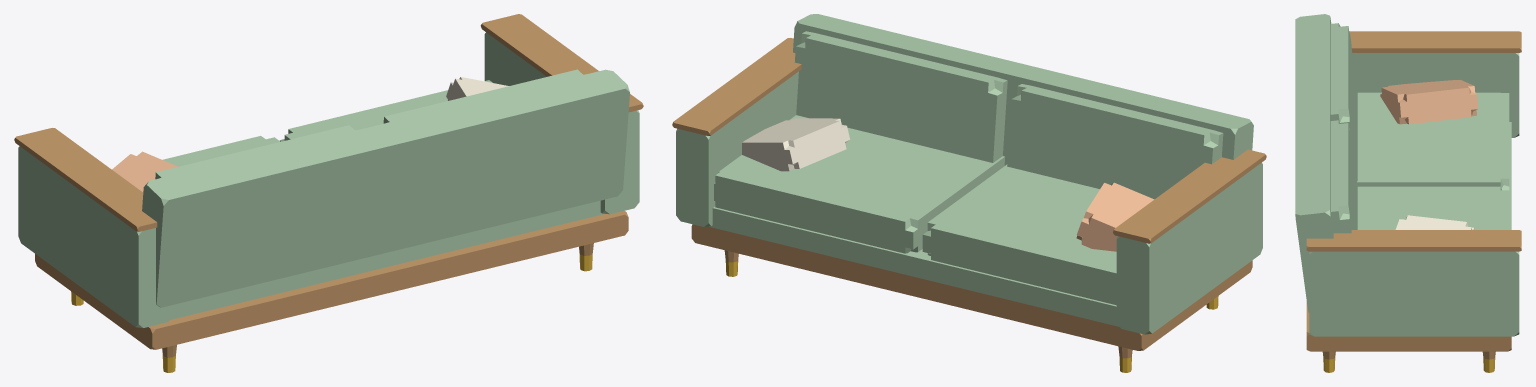
File: Furniture_Sofa.glb
3 views of the same model, side by side, from view 1: azimuth 30°, elevation 25°; view 2: azimuth 150°, elevation 25°; view 3: azimuth 270°, elevation 25° (orthographic). The views are drawn at different scales.
Visible parts, largest first — view 1: Furniture_Sofa; view 2: Furniture_Sofa; view 3: Furniture_Sofa.
Part boxes in pixels (bbox=[...]): Furniture_Sofa: bbox=[14, 14, 643, 372]; Furniture_Sofa: bbox=[672, 14, 1266, 372]; Furniture_Sofa: bbox=[1295, 14, 1521, 372].
Size of the model in its own units: 2.04 by 0.7469 by 0.9063.
